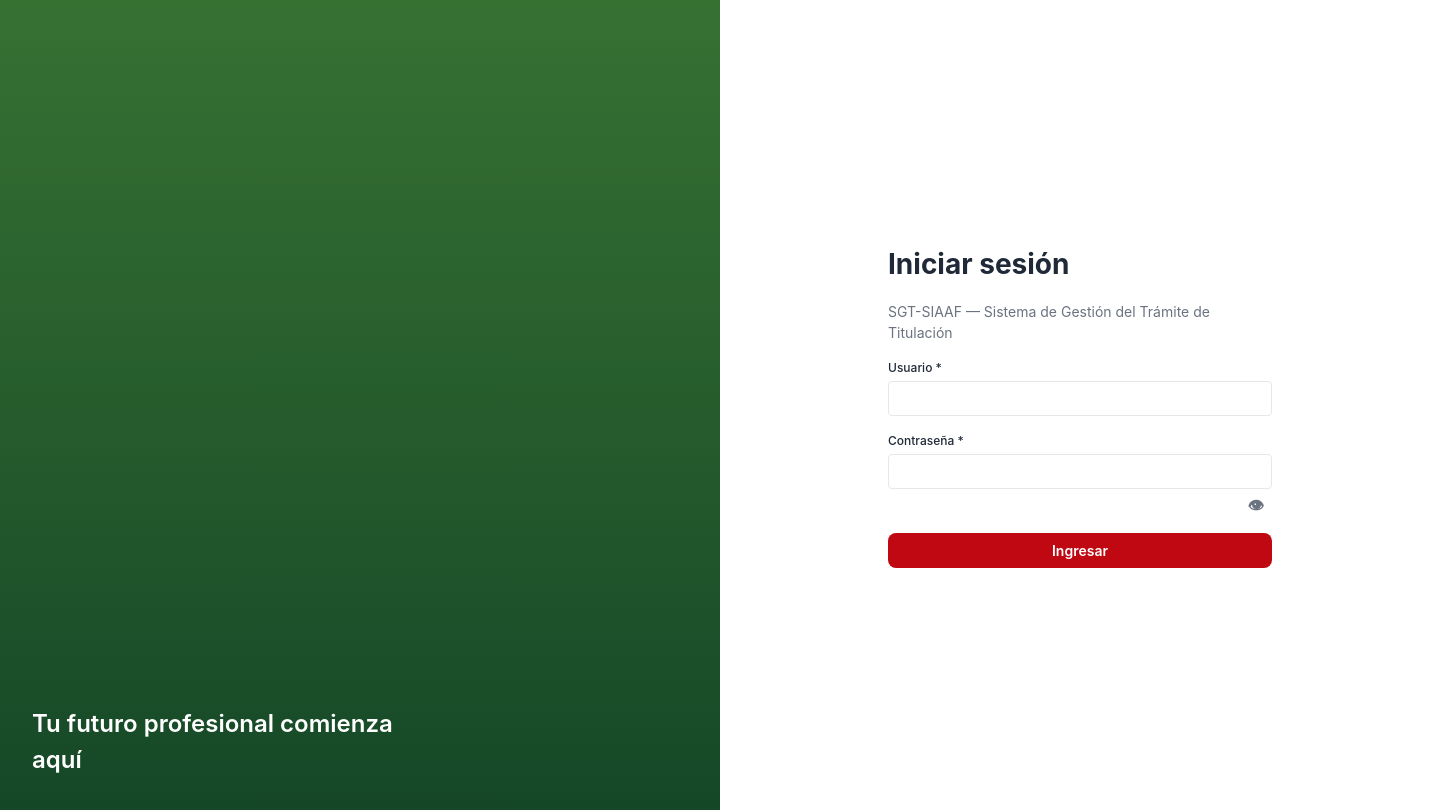
Test: LoginPage (V-01, integración real) › muestra un mensaje genérico ante un código de estado no mapeado
The image size is (1440, 810).
Type "estudiante.demo" into the field labelled "Usuario *" at (1080, 398), box [888, 380, 1272, 416]
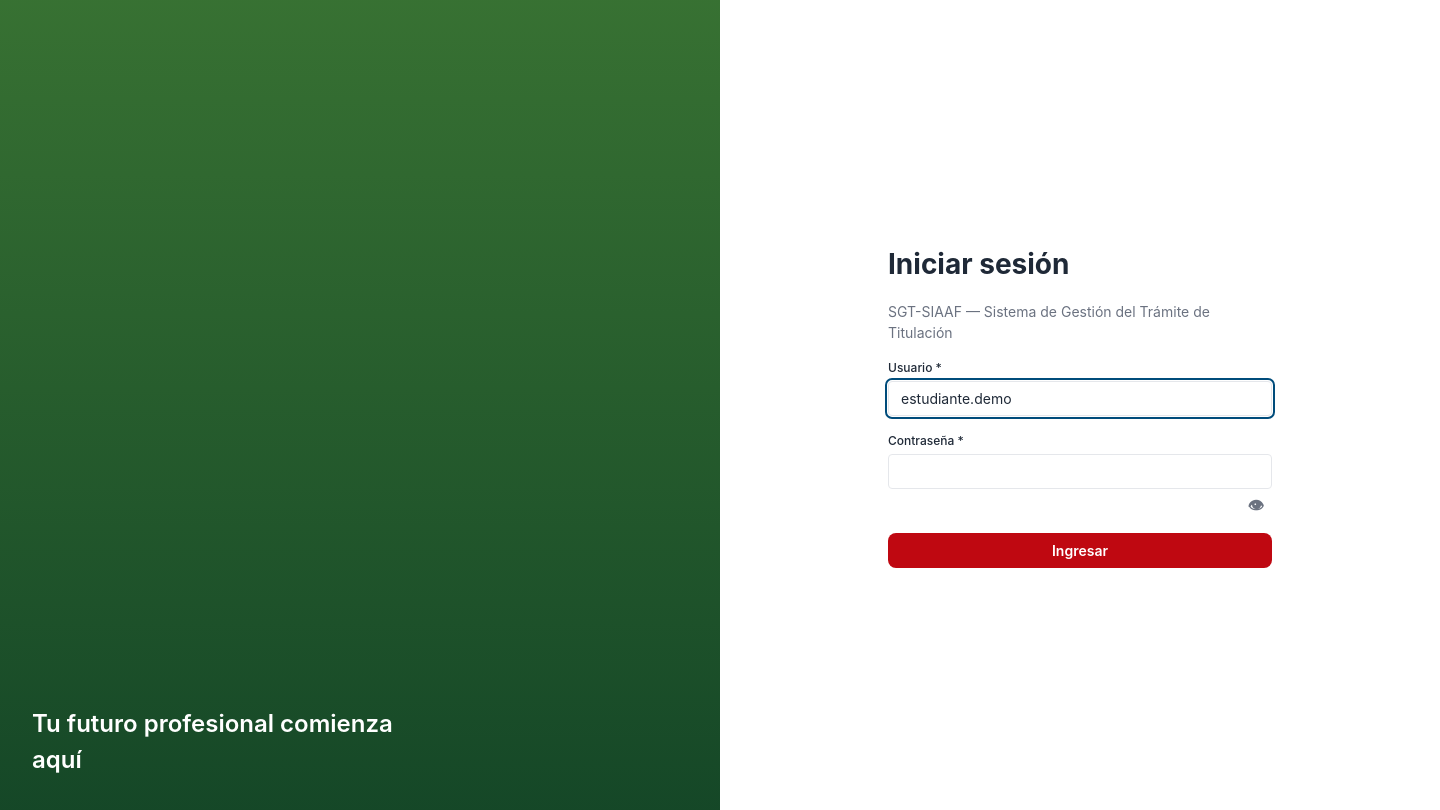
Type "demo-valida" into the password field labelled "Contraseña *" at (1080, 471), box [888, 454, 1272, 488]
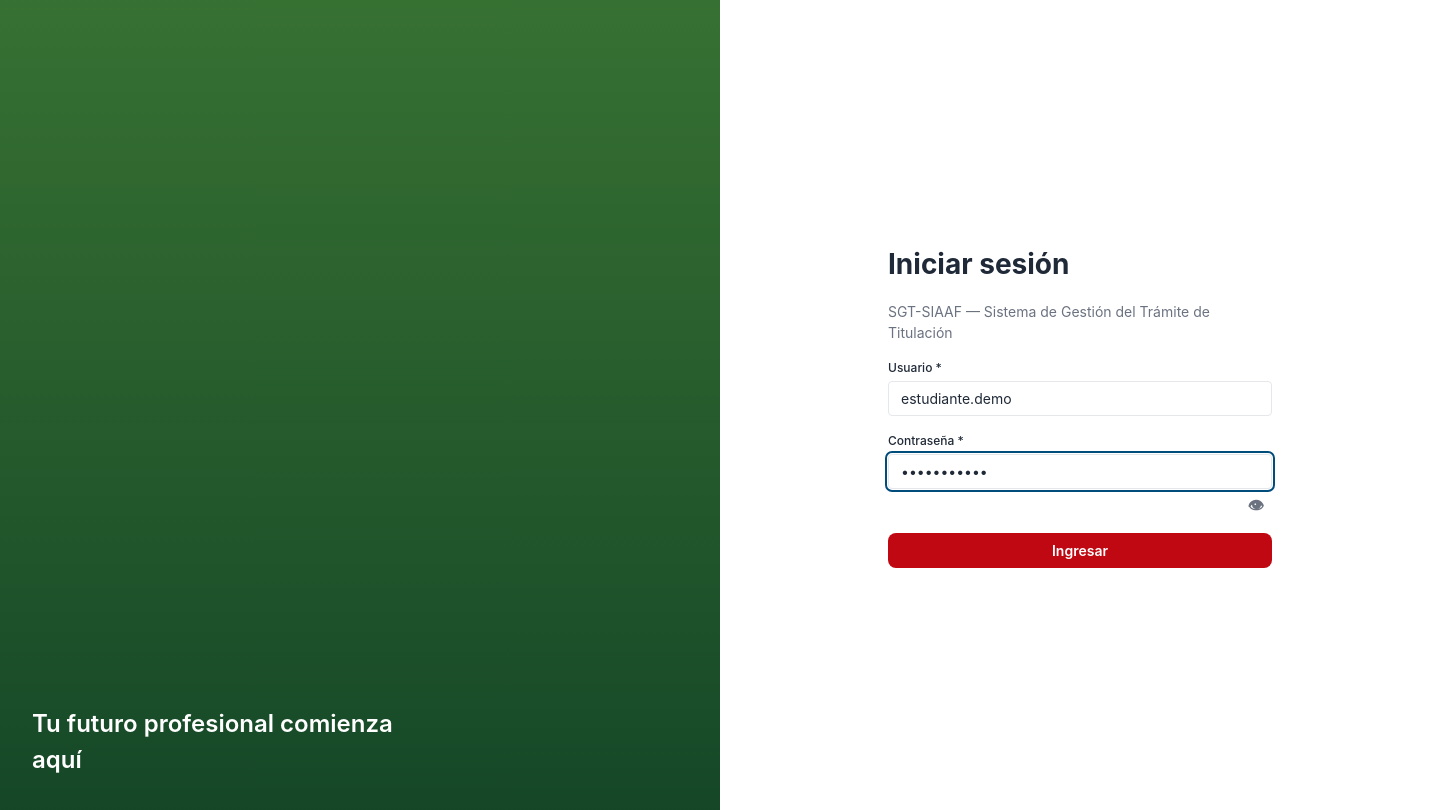
Click the button "Ingresar" at (1080, 550), box [888, 532, 1272, 568]
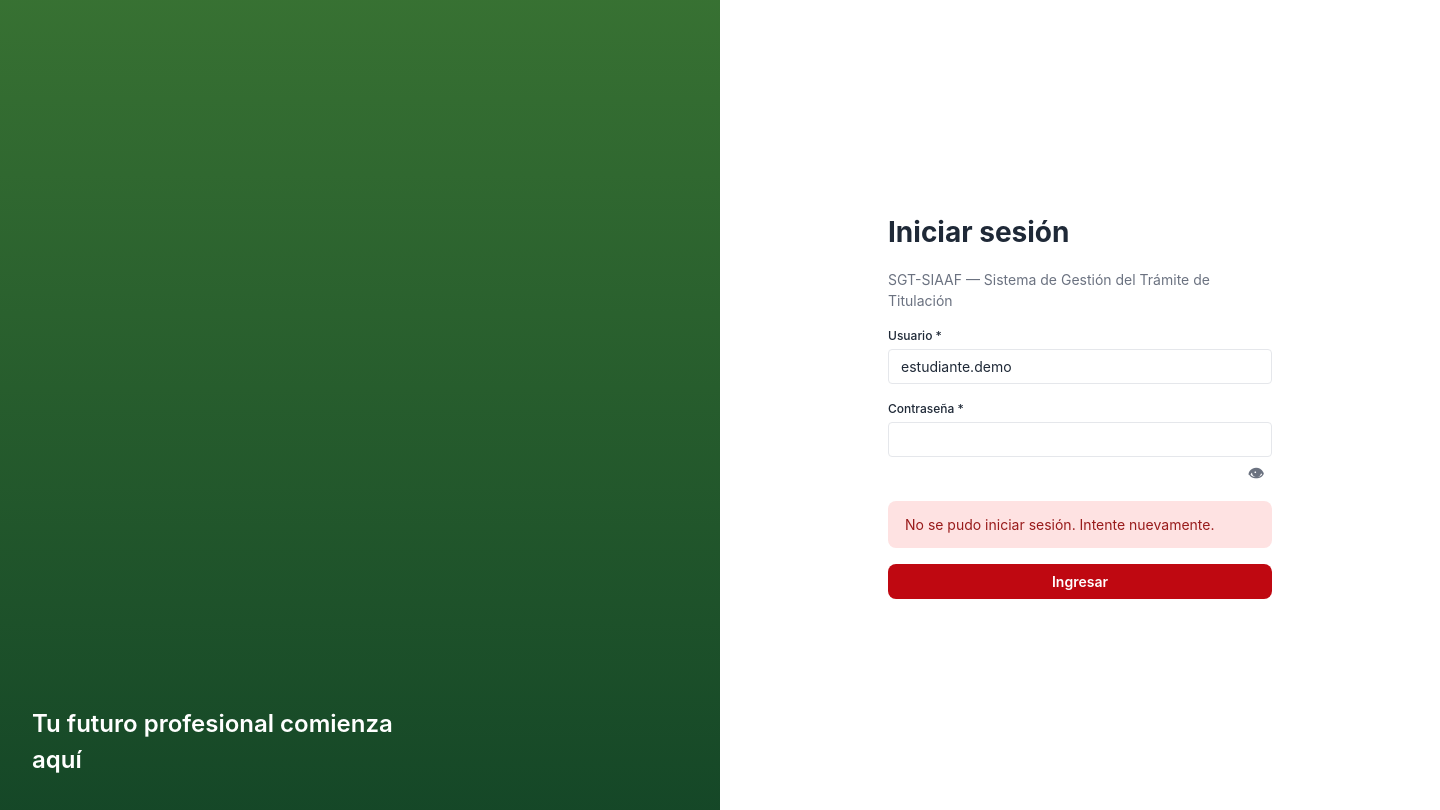
Expected: the message reads "No se pudo iniciar sesión. Intente nuevamente.", [905, 516, 1214, 533]
